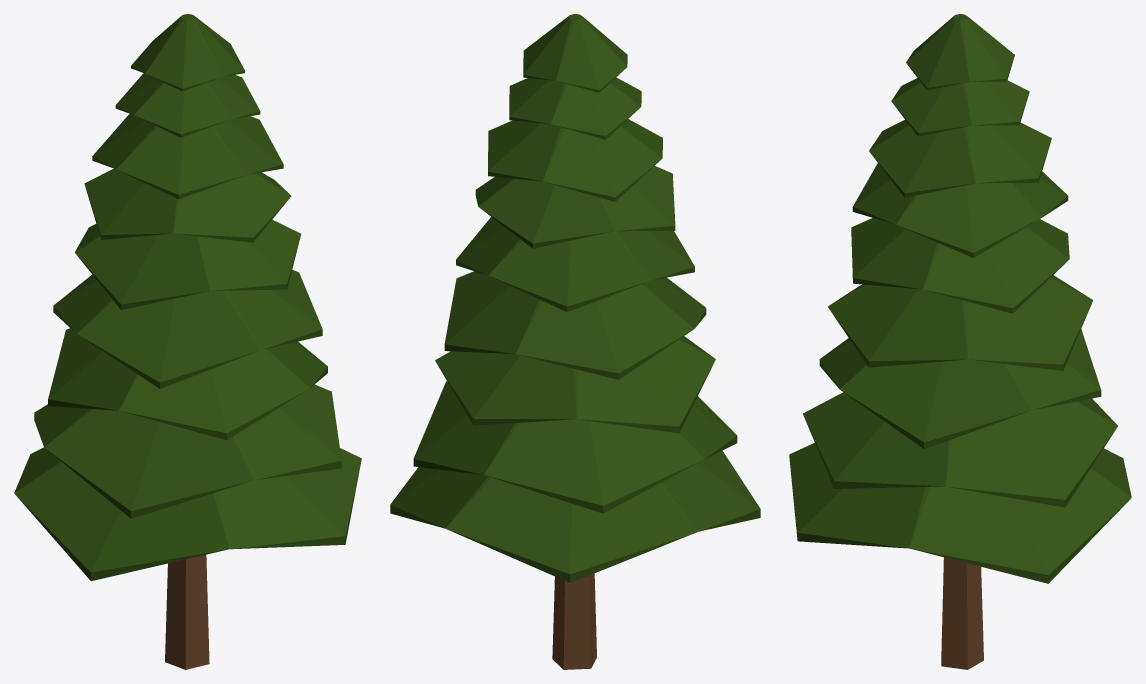
The model's file is TreeV2.fbx.
3 renders of one model, left to right at view 1: azimuth 30°, elevation 25°; view 2: azimuth 150°, elevation 25°; view 3: azimuth 270°, elevation 25°, orthographic.
Parts seen in each view (by area): view 1: Cylinder.009; view 2: Cylinder.009; view 3: Cylinder.009.
Boxes of the visible parts, x1=… form: Cylinder.009: x1=14, y1=14, x2=361, y2=669; Cylinder.009: x1=390, y1=14, x2=760, y2=669; Cylinder.009: x1=789, y1=14, x2=1131, y2=669.
Size of the model in its own units: 903 by 1870 by 903.
